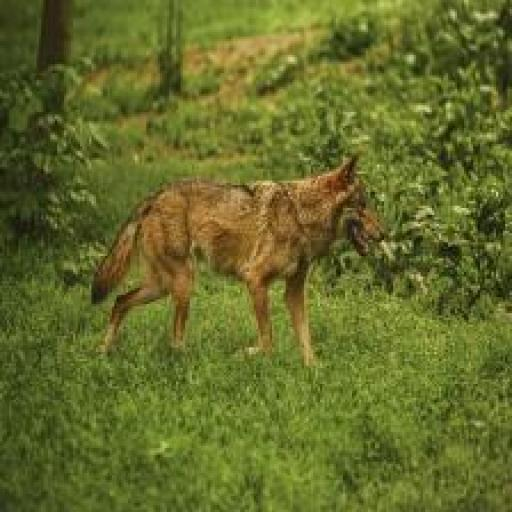wolf: (92, 151, 386, 368)
